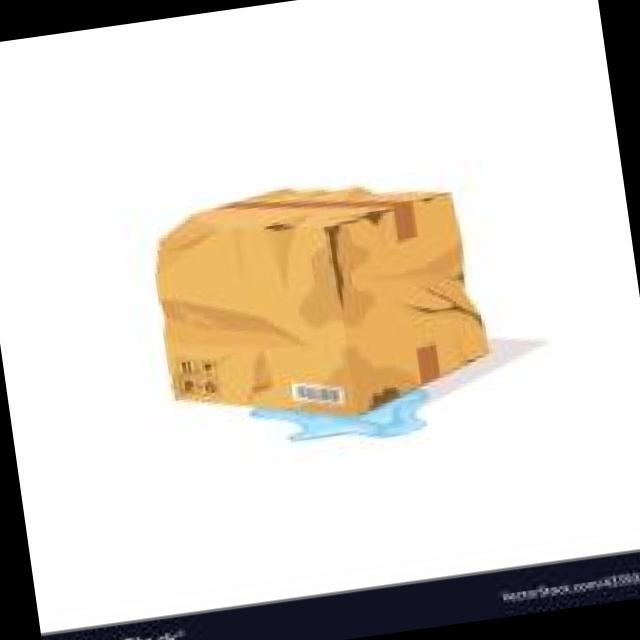box: (162, 187, 482, 413)
contamination: (264, 208, 383, 318), (244, 347, 430, 416)
crushed: (148, 208, 220, 278)
